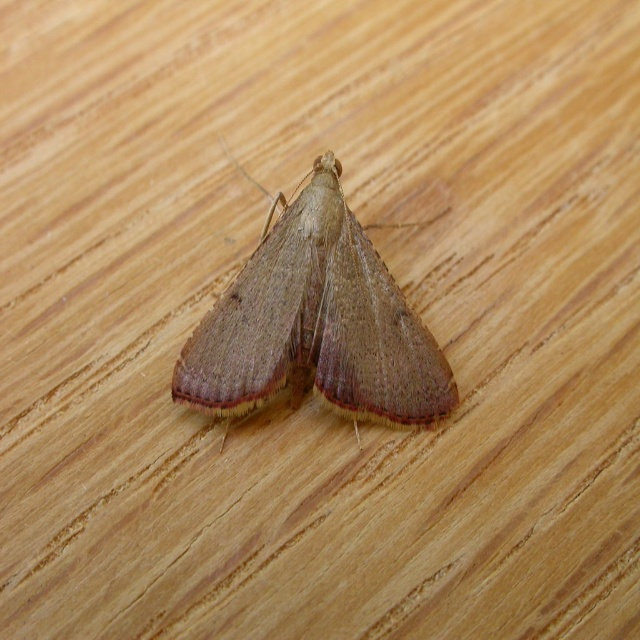Moths and butterflies: (164, 142, 466, 452)
